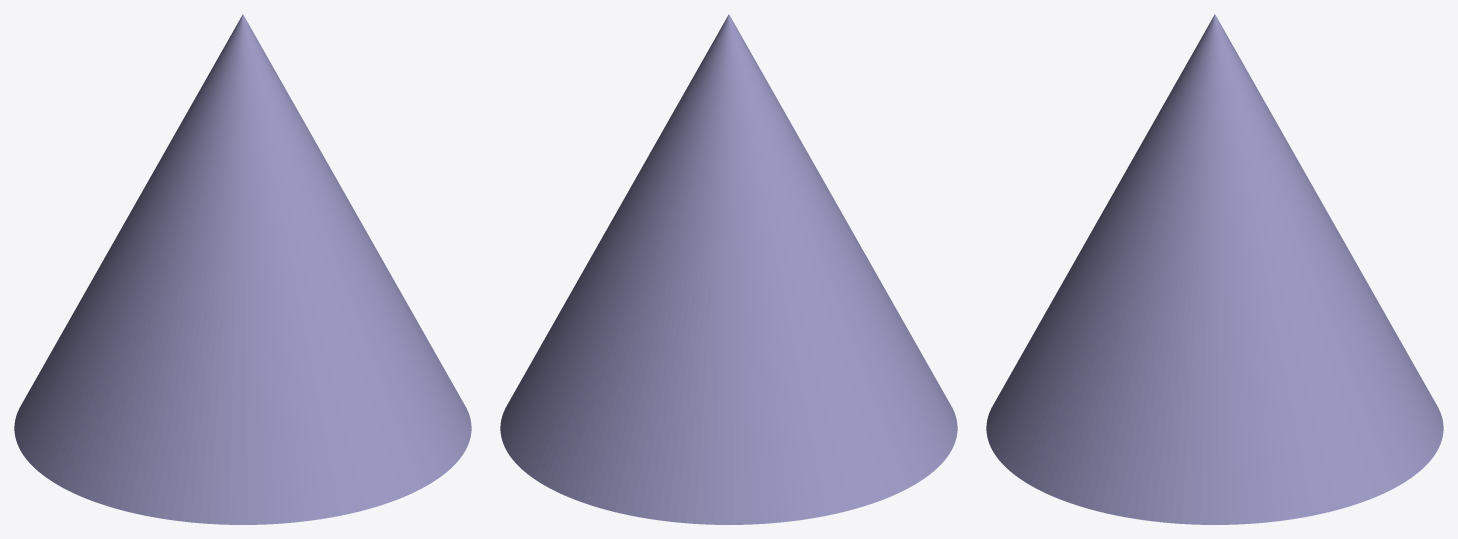
File: Cone_Grey_Smooth.fbx
3 renders of one model, left to right at view 1: azimuth 30°, elevation 25°; view 2: azimuth 150°, elevation 25°; view 3: azimuth 270°, elevation 25°, orthographic.
Parts seen in each view (by area): view 1: Cone; view 2: Cone; view 3: Cone.
Part boxes in pixels (left/top/right/bottom): Cone: left=14, top=14, right=471, bottom=524; Cone: left=500, top=14, right=957, bottom=524; Cone: left=986, top=14, right=1443, bottom=524.
Size of the model in its own units: 200 by 200 by 200.
